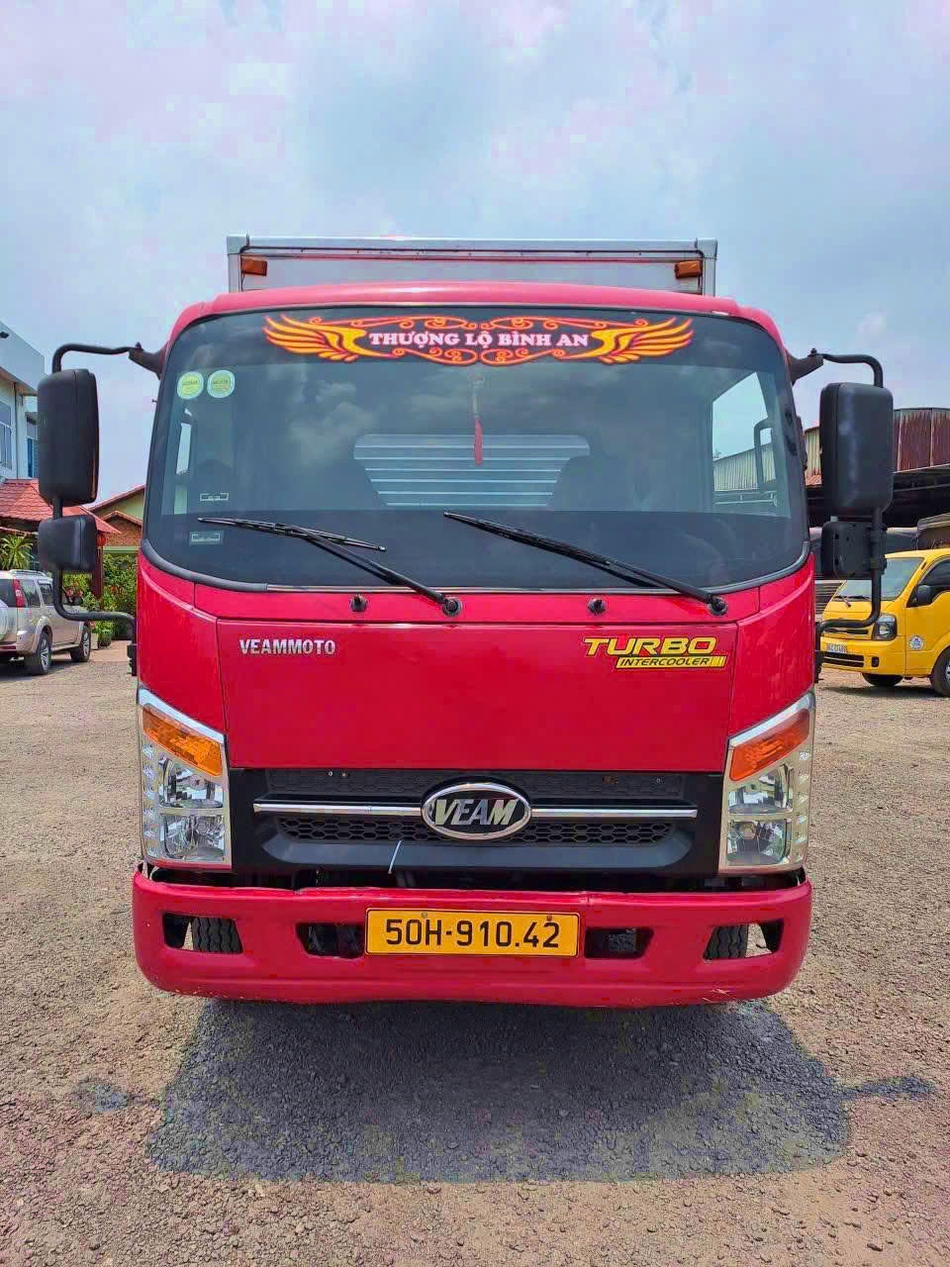Bien-so: (360, 862, 578, 921)
